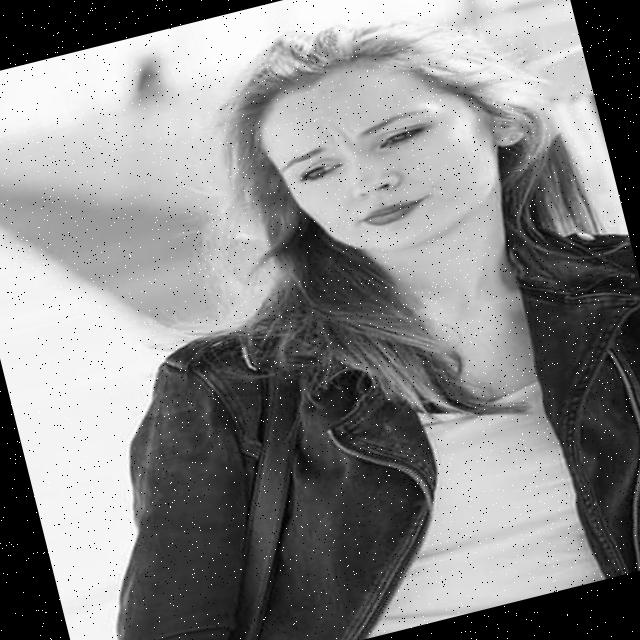Sadness: (248, 42, 495, 276)
